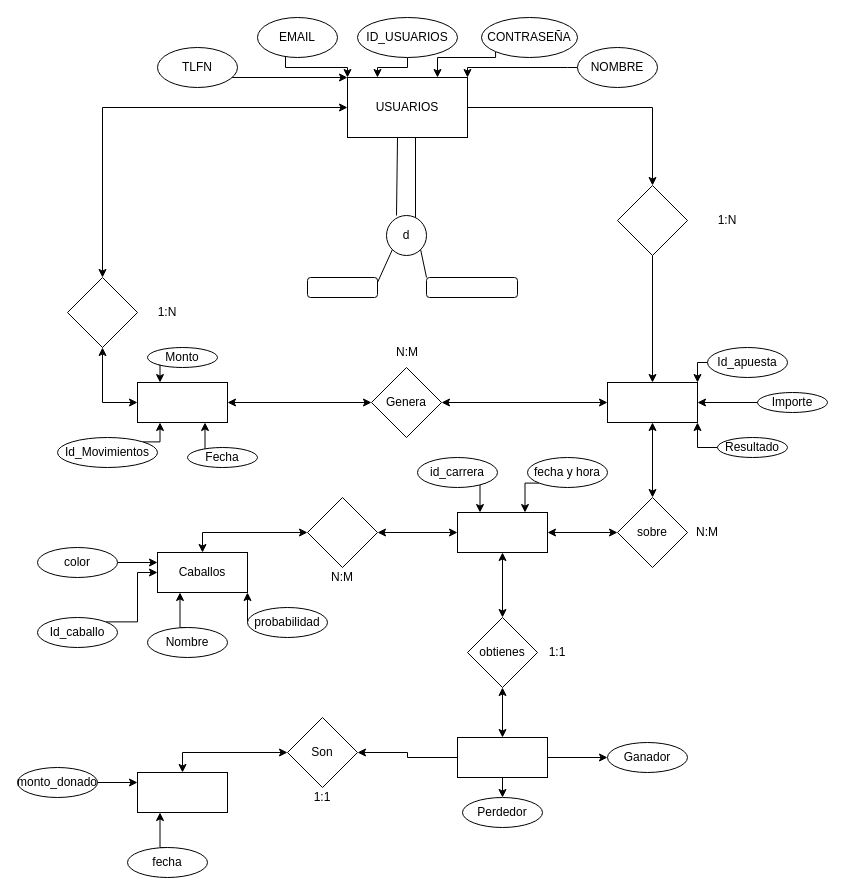
This 845x895 diagram has some shape labels left out. Each missing label, with the centre of its shape:
Administrador: (x=472, y=287)
Apuestas: (x=652, y=402)
Carreras: (x=502, y=532)
Clientes: (x=342, y=287)
Donaciones: (x=182, y=792)
Movimientos: (x=182, y=402)
Participan: (x=342, y=532)
Realiza: (x=652, y=220)
Resgistra: (x=102, y=312)
Resultados: (x=502, y=757)
